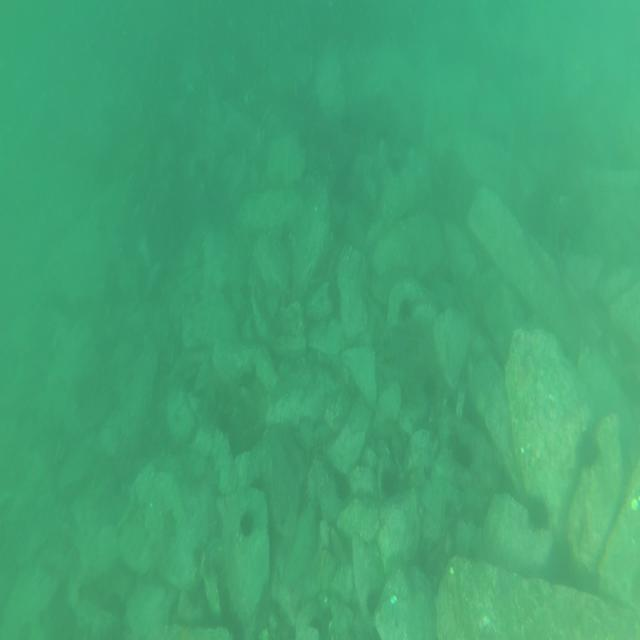echinus: (528, 496, 554, 534), (579, 430, 600, 465), (238, 509, 254, 538)
